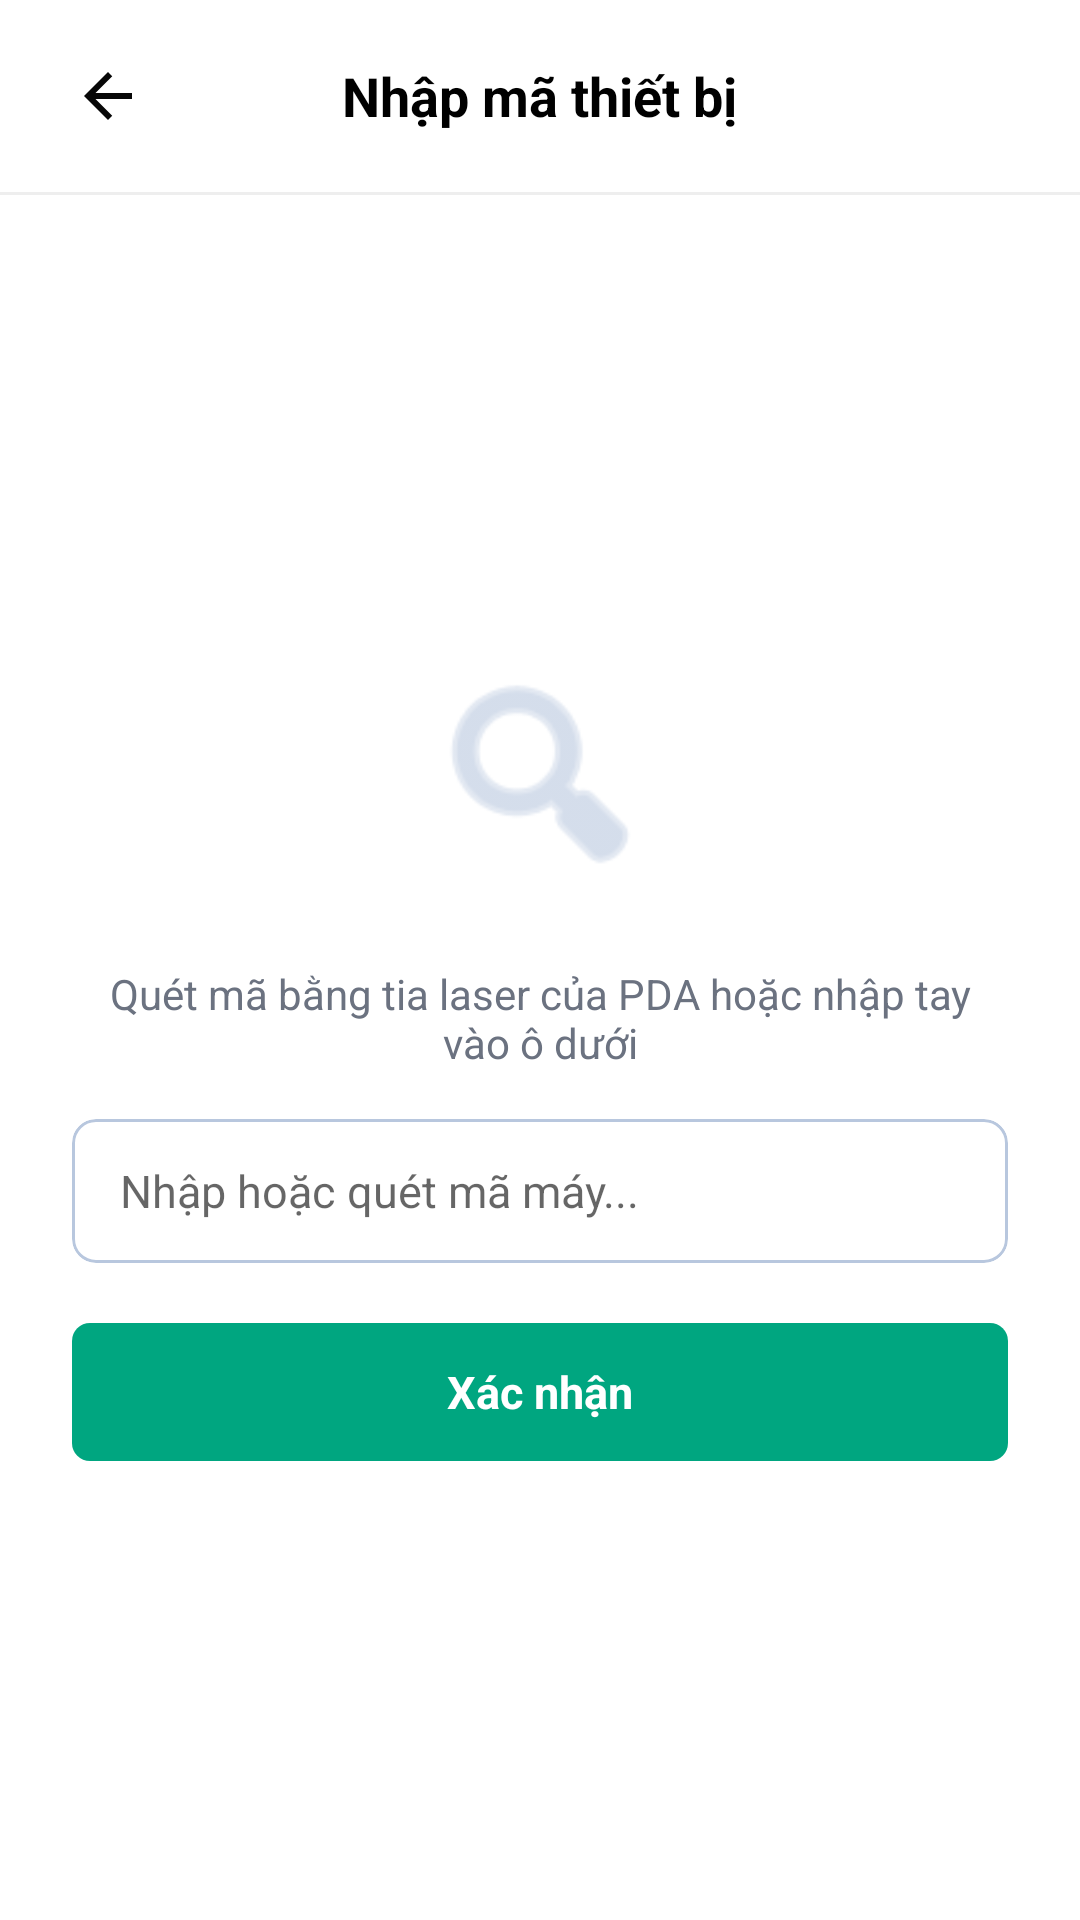

Named icons in this screenshot (1080px×1920px) and their bounding boxes, (x1,y1,x2,y2):
back: (84,72,132,120)
search: (453,687,627,861)
